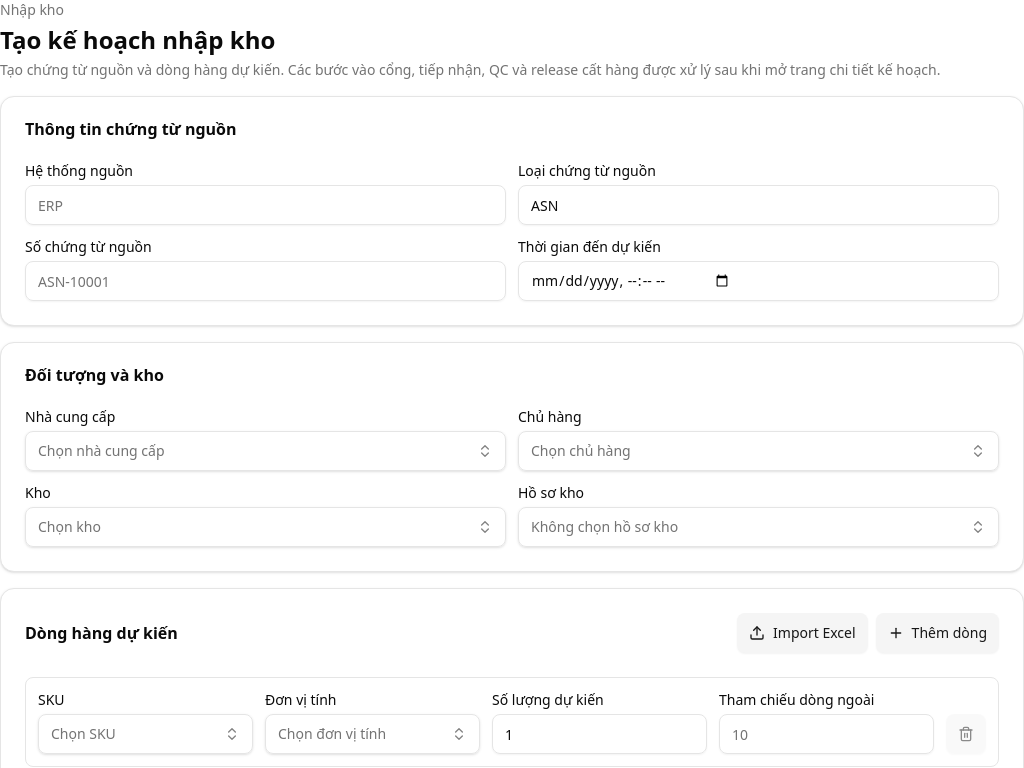
Scenario: InboundPlanCreatePage warehouse search (IFB-16) › clears the selected warehouse once the search debounce settles (review-fix)
Click the dropdown with id "inbound-warehouse-id" at [69, 526], box 25,507 -> 506,547
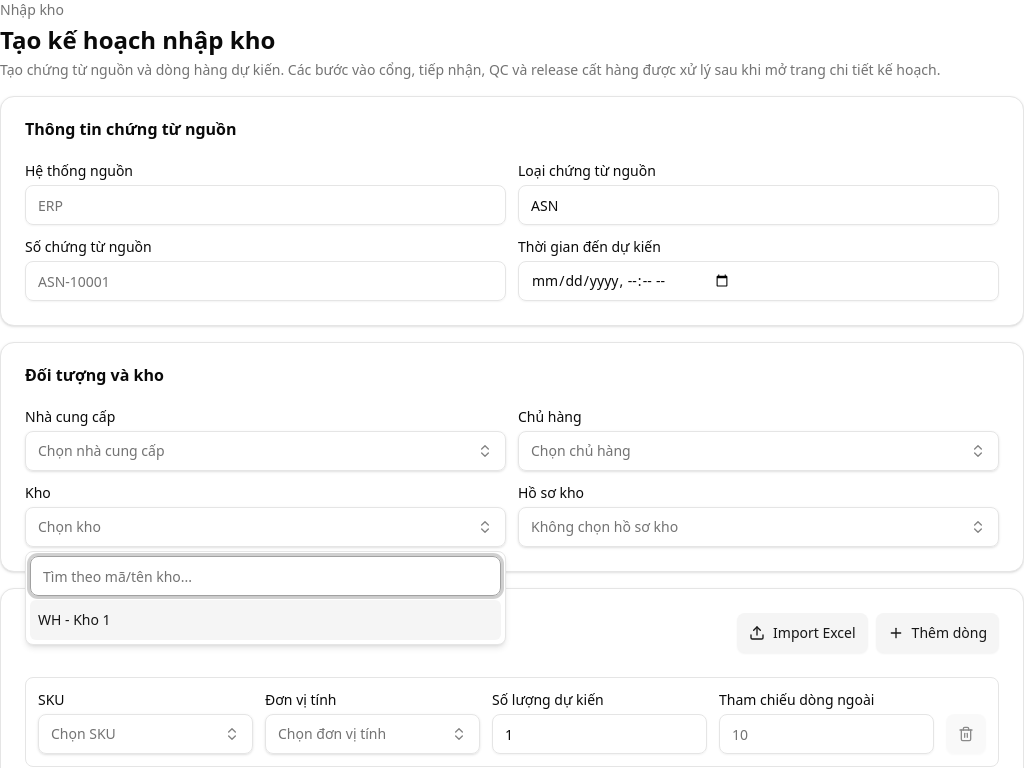
Click the option "WH - Kho 1" at [74, 620], box 30,600 -> 501,640
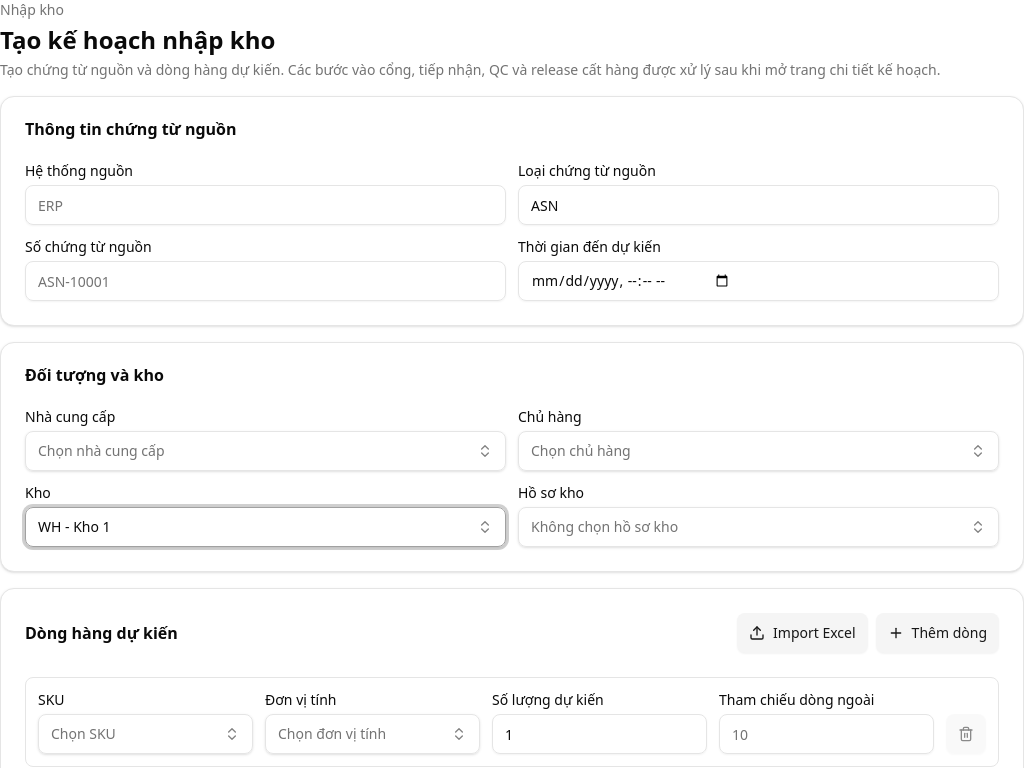
Expected: the dropdown with id "inbound-warehouse-id" reads "WH - Kho 1"
Click the dropdown with id "inbound-warehouse-id" at [74, 526], box 25,507 -> 506,547
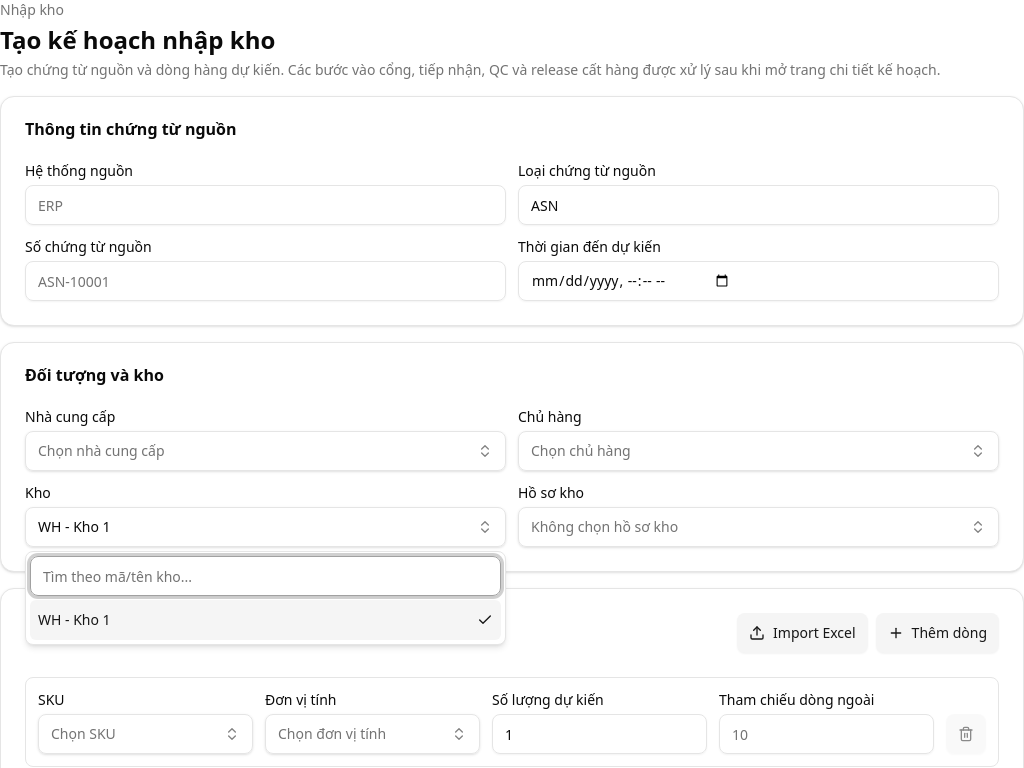
Type "H" into the dropdown named "Tìm kiếm Kho" at [266, 576], box 30,556 -> 501,596
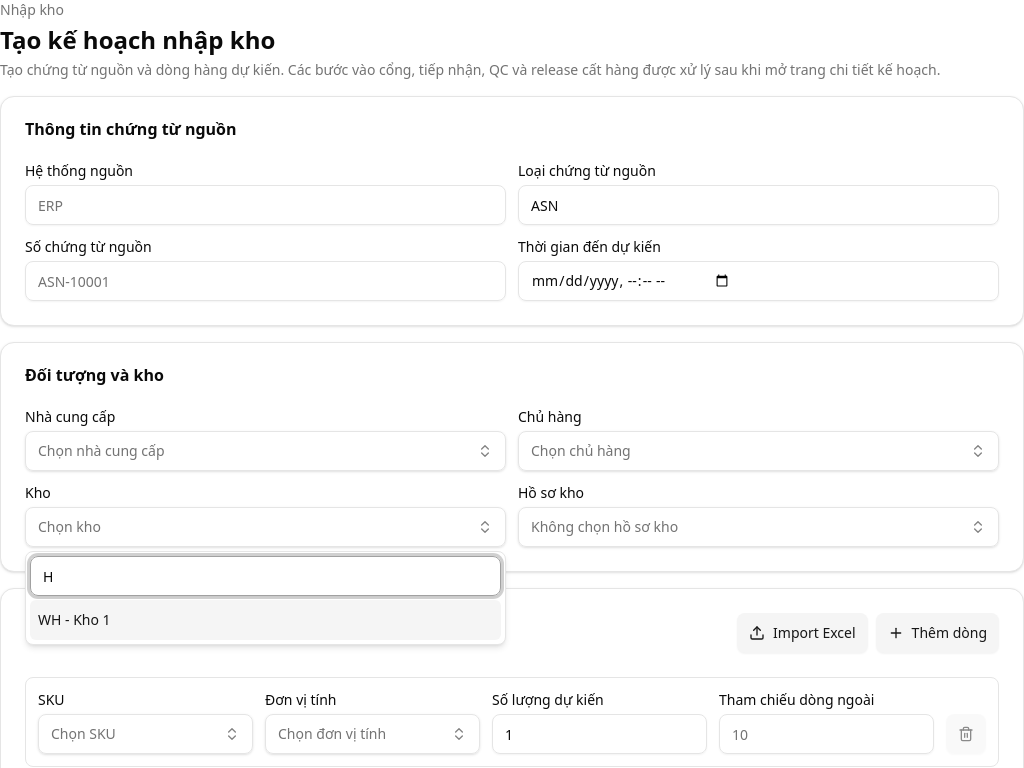
Expected: the button with id "inbound-warehouse-id" reads "Chọn kho", 25,507 -> 506,547
